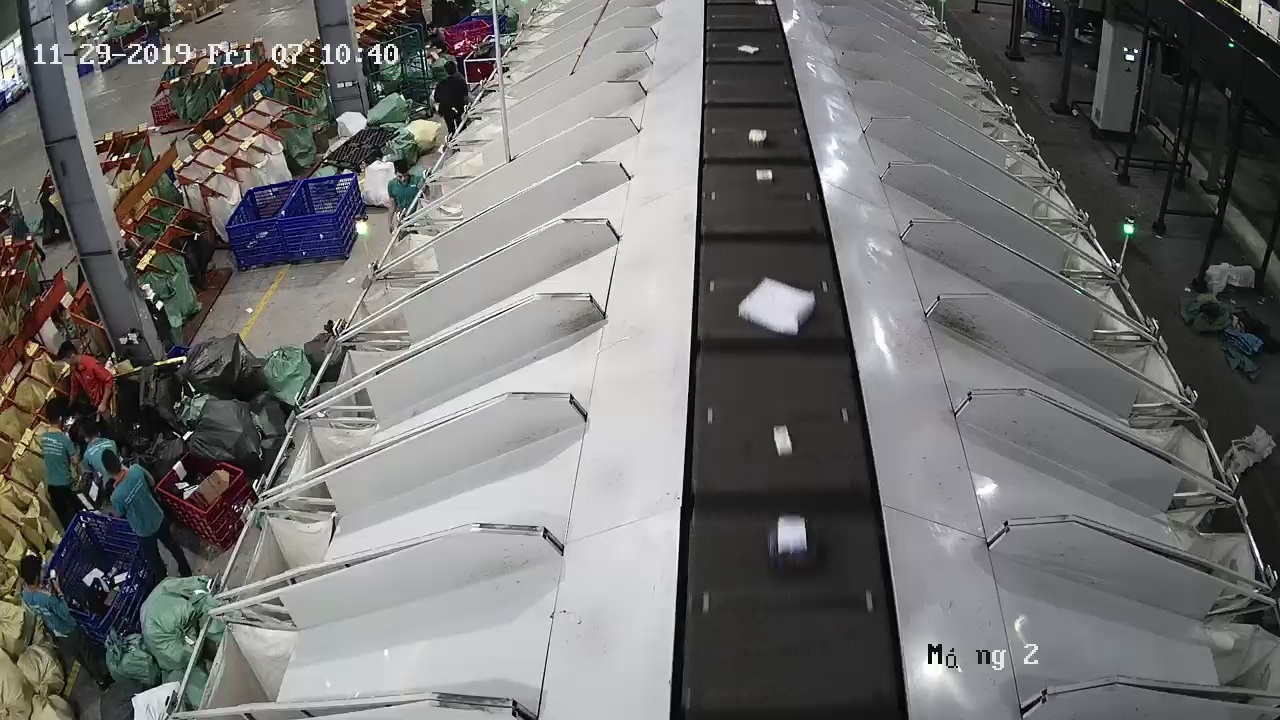parcel: (738, 277, 816, 336), (765, 513, 820, 575), (774, 426, 793, 457), (748, 128, 767, 150), (755, 168, 774, 184)
